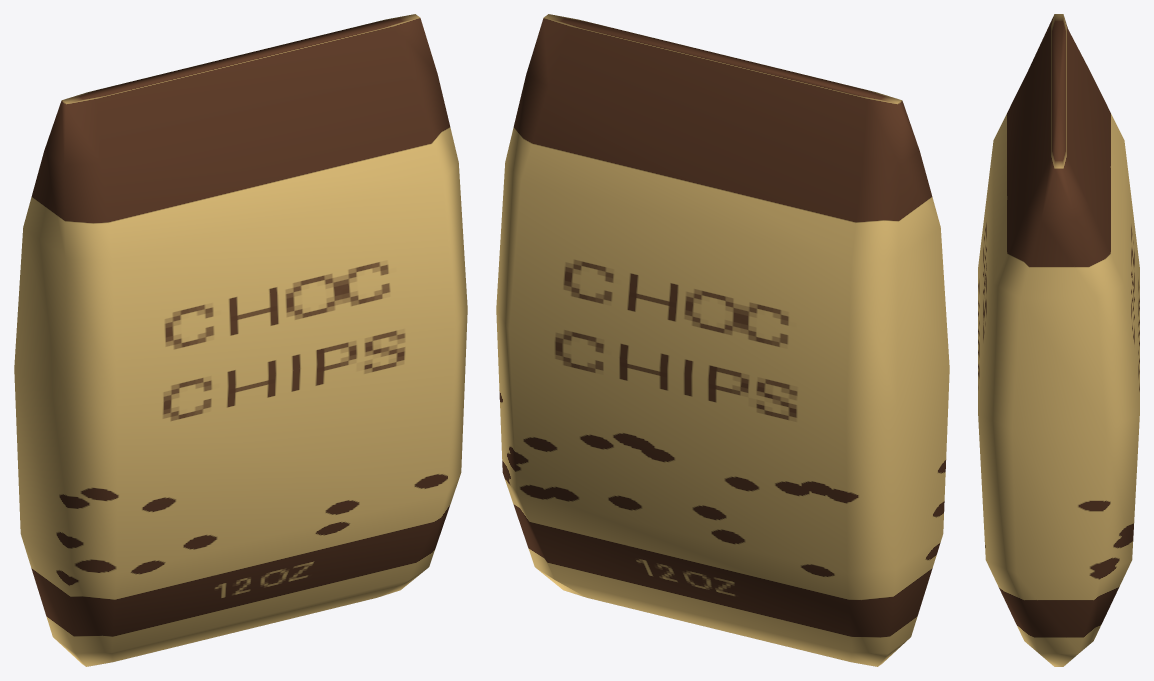
Rendered from choc_chips_bag.obj.
3 views of the same model, side by side, from view 1: azimuth 30°, elevation 25°; view 2: azimuth 150°, elevation 25°; view 3: azimuth 270°, elevation 25° (orthographic). The views are drawn at different scales.
Parts seen in each view (by area): view 1: choc_chips_bag; view 2: choc_chips_bag; view 3: choc_chips_bag.
Boxes of the visible parts, x1=… form: choc_chips_bag: x1=14, y1=14, x2=467, y2=666; choc_chips_bag: x1=496, y1=14, x2=949, y2=666; choc_chips_bag: x1=978, y1=14, x2=1139, y2=666.
Bounding box in the file's own units: 1.02 × 1.38 × 0.399.
